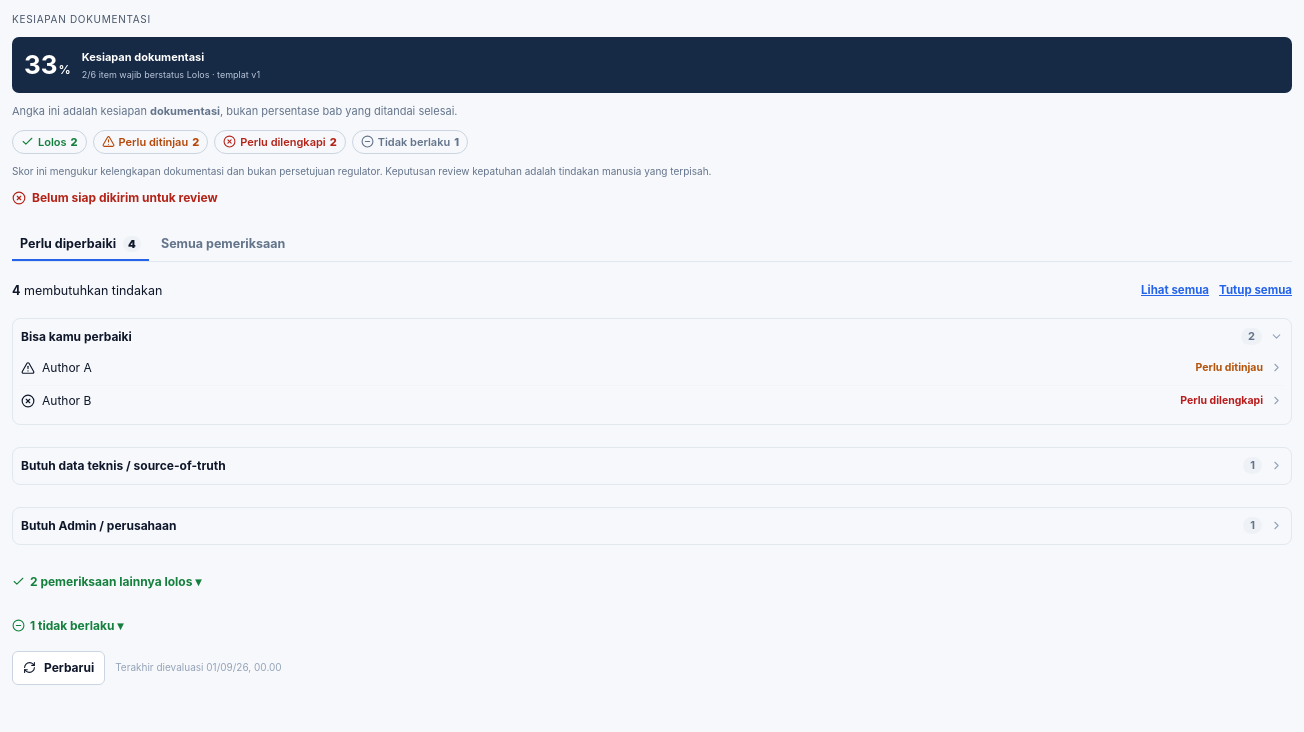
Test: ValidationPanel — compact by default › a finding row is one line until expanded, then shows reason + owner CTA
Check: the text "Alasan untuk Author A." is not shown
Click the button "Author A Perlu ditinjau".
click(67, 367)  # box left=21, top=352, right=1283, bottom=382
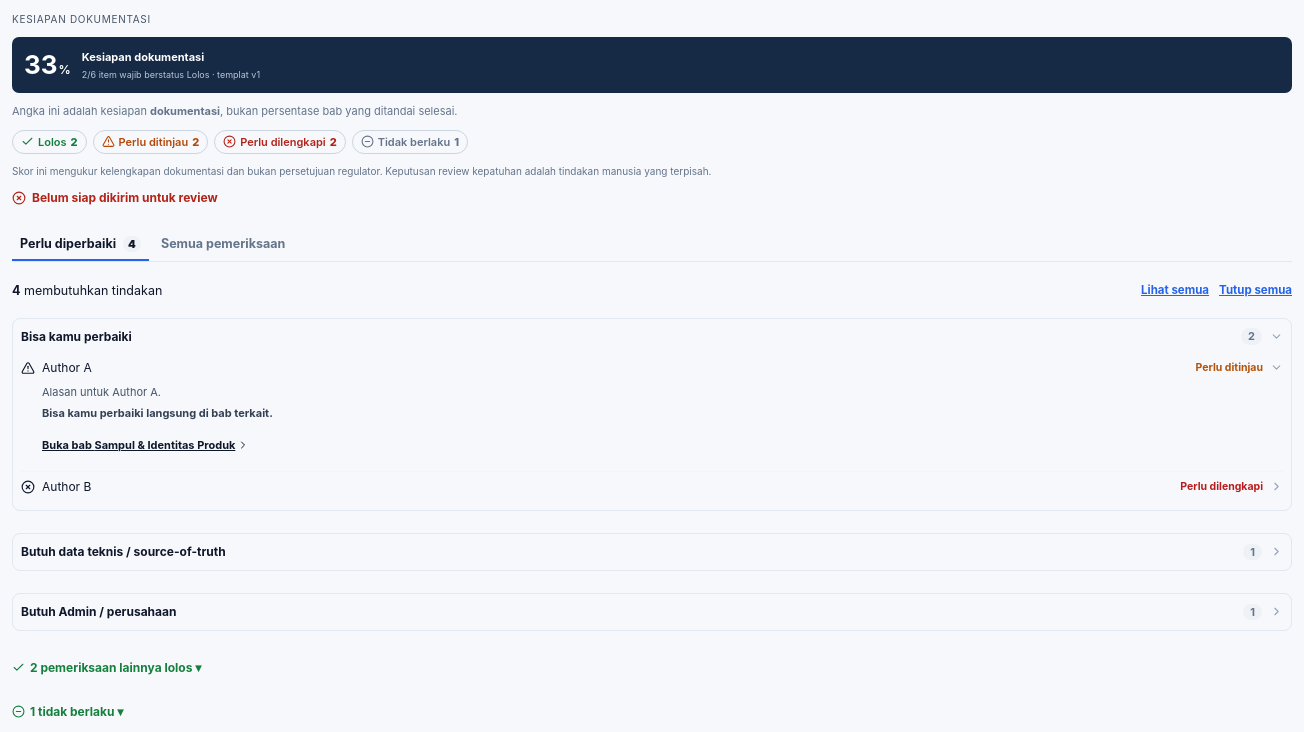
Check: the text "Alasan untuk Author A." is shown, box left=42, top=384, right=161, bottom=398
Check: the text "Bisa kamu perbaiki langsung di bab terkait." is shown, box left=42, top=406, right=273, bottom=420
